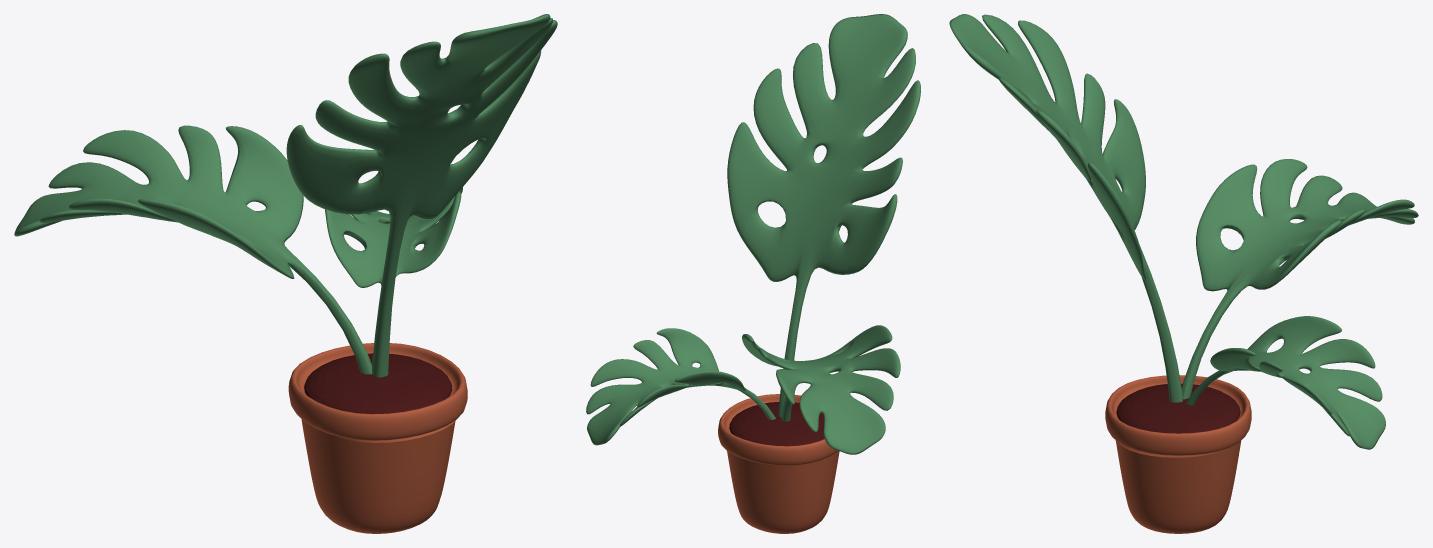
The model's file is PottedPlane.fbx.
3 renders of one model, left to right at view 1: azimuth 30°, elevation 25°; view 2: azimuth 150°, elevation 25°; view 3: azimuth 270°, elevation 25°, orthographic. The views are drawn at different scales.
Visible parts, largest first — view 1: Plane, Plane.002, Plane.004, Sphere, Plane.003; view 2: Plane, Plane.002, Plane.004, Plane.003, Sphere; view 3: Plane, Plane.002, Plane.004, Plane.003, Sphere.
Boxes of the visible parts, x1=… form: Plane: x1=286, y1=14, x2=557, y2=377; Plane.002: x1=14, y1=125, x2=371, y2=374; Plane.004: x1=288, y1=343, x2=467, y2=533; Sphere: x1=304, y1=353, x2=452, y2=414; Plane.003: x1=325, y1=187, x2=462, y2=287; Plane: x1=727, y1=14, x2=920, y2=417; Plane.002: x1=742, y1=325, x2=900, y2=454; Plane.004: x1=718, y1=394, x2=839, y2=533; Plane.003: x1=586, y1=328, x2=775, y2=445; Sphere: x1=729, y1=402, x2=824, y2=446; Plane: x1=949, y1=14, x2=1182, y2=402; Plane.002: x1=1181, y1=159, x2=1418, y2=399; Plane.004: x1=1105, y1=375, x2=1251, y2=533; Plane.003: x1=1186, y1=316, x2=1385, y2=449; Sphere: x1=1116, y1=383, x2=1240, y2=433.
Size of the model in its own units: 630 by 849 by 726.
